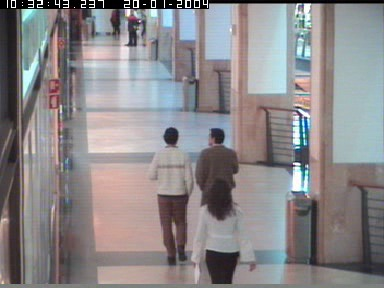person: (190, 176, 256, 284), (146, 127, 193, 265), (193, 127, 239, 265), (125, 10, 140, 46), (110, 10, 121, 39), (139, 17, 147, 47)
